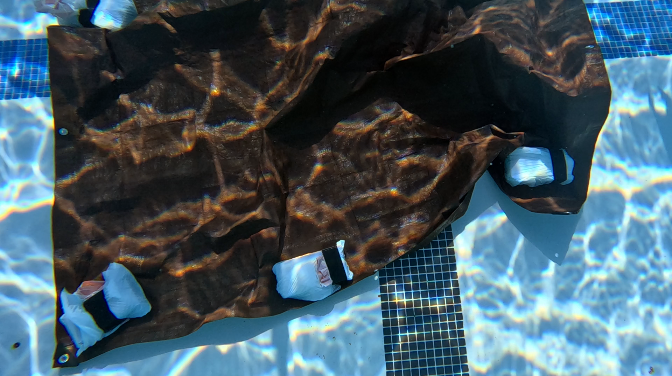sandbag: (35, 0, 610, 364)
